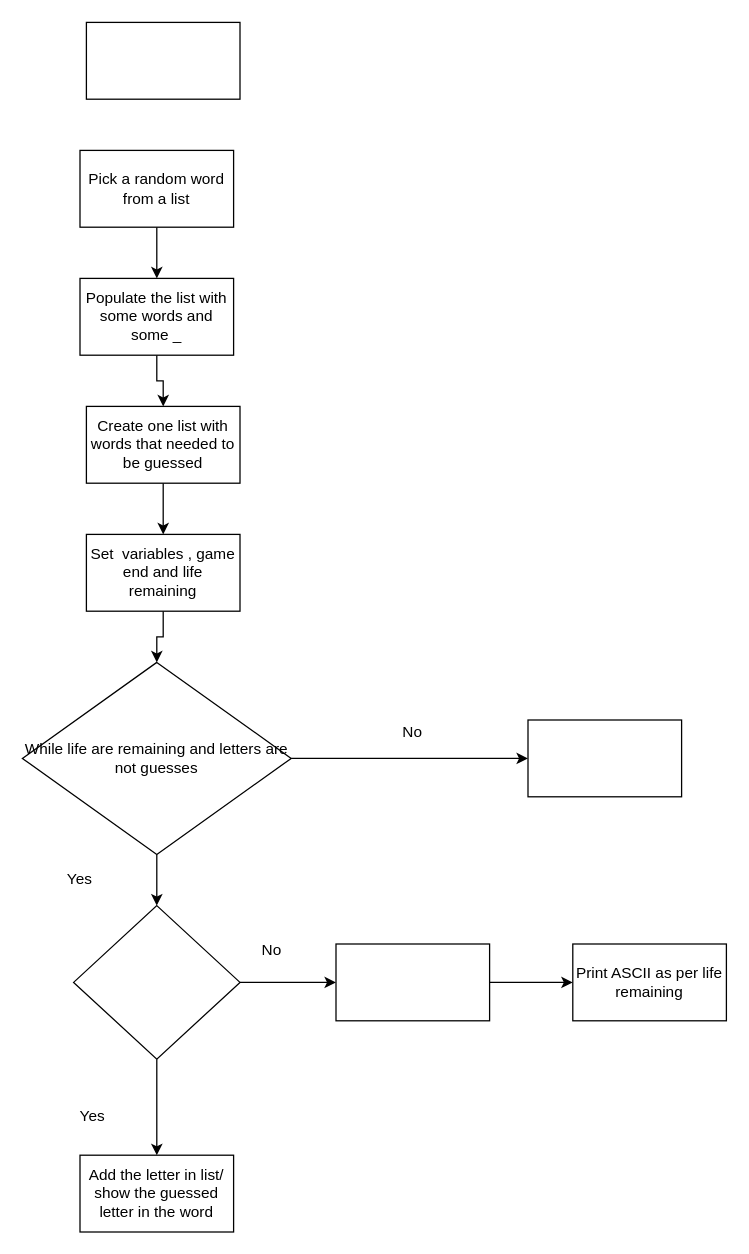
The diagram is 749 pixels wide and 1254 high, and some of its shapes have lost their labels. The shapes that lost their labels are listed below. From the top down, each one's centre as x and y in pixels, then its label:
At (162,60): "Start".
At (604,758): "End Game".
At (156,981): "Guess letter is present".
At (412,982): "Reduce a life".
